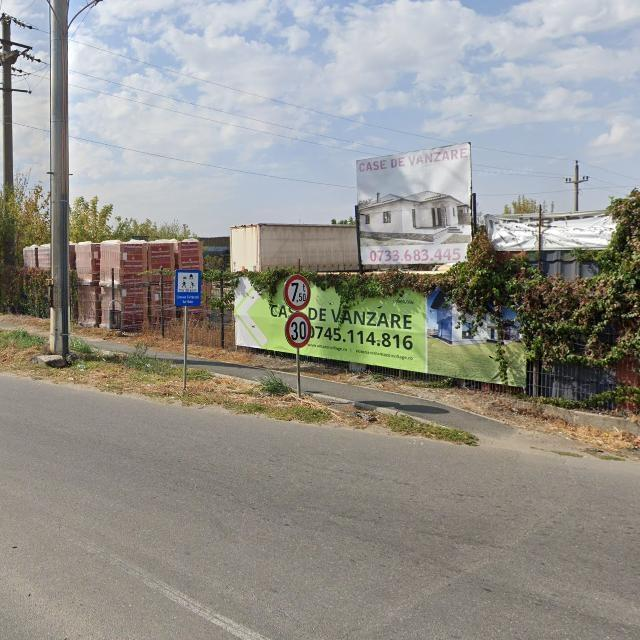forb_speed_over_30: (285, 312, 312, 347)
